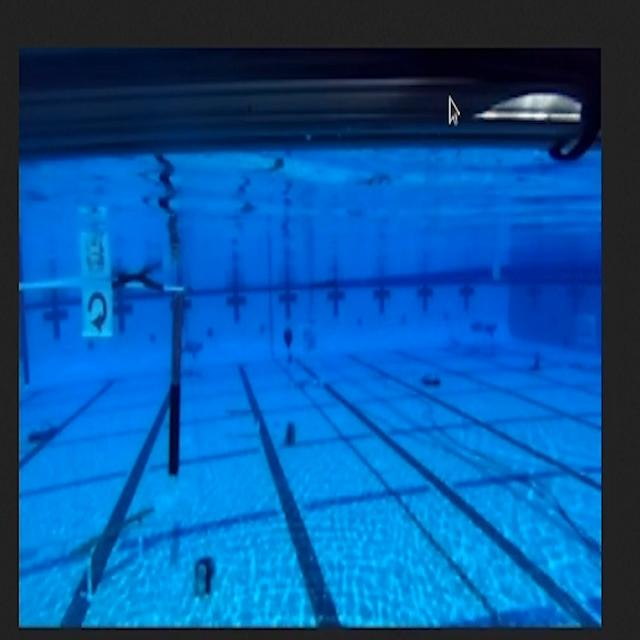Gate: (19, 260, 197, 494)
Path: (61, 496, 171, 606)
